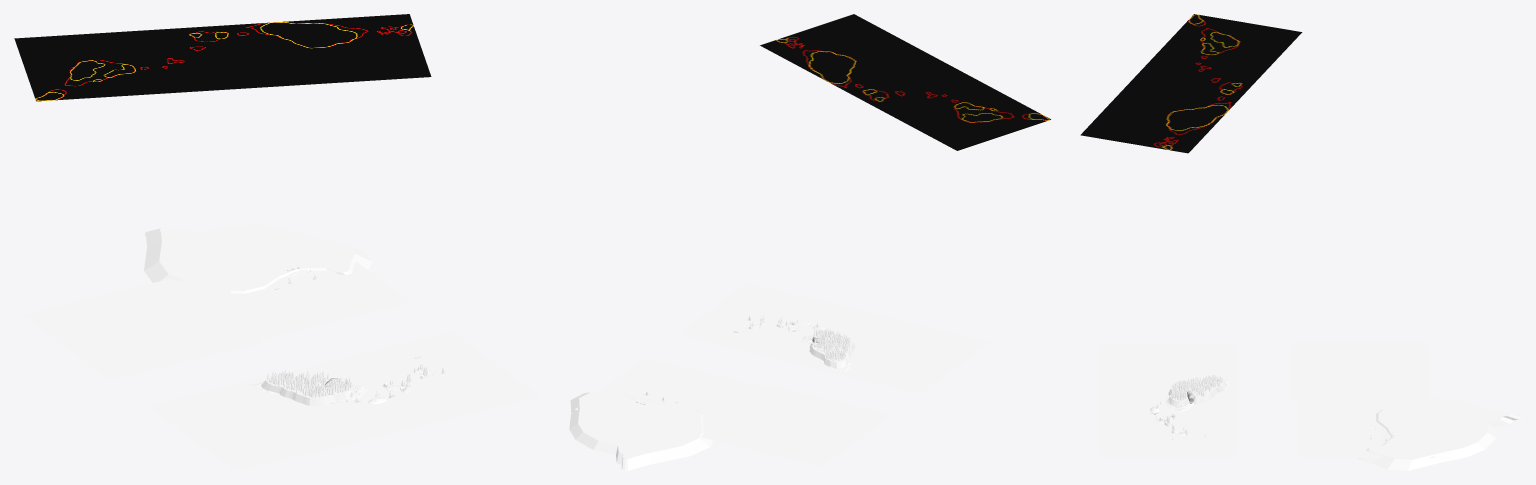
3 renders of one model, left to right at view 1: azimuth 30°, elevation 25°; view 2: azimuth 150°, elevation 25°; view 3: azimuth 270°, elevation 25°, orthographic. The views are drawn at different scales.
Parts seen in each view (by area): view 1: Map, Plane.026, Plane, Plane.024, Cylinder.013, Plane.010, Cylinder.082; view 2: Map, Plane.026, Cylinder.013, Plane, Plane.024, Plane.010, Cylinder.050; view 3: Map, Plane.026, Plane, Cylinder.013, Plane.024, Plane.010, Cylinder.050.
Boxes of the visible parts, x1,y1,x2,y2 form: Map: [14, 14, 431, 101]; Plane.026: [22, 278, 263, 379]; Plane: [300, 331, 540, 433]; Plane.024: [147, 368, 387, 470]; Cylinder.013: [144, 225, 372, 293]; Plane.010: [181, 237, 411, 339]; Cylinder.082: [261, 376, 352, 405]; Map: [760, 14, 1050, 150]; Plane.026: [702, 385, 891, 466]; Cylinder.013: [569, 387, 712, 470]; Plane: [677, 283, 869, 364]; Plane.024: [799, 312, 990, 393]; Plane.010: [575, 358, 766, 432]; Cylinder.050: [809, 335, 855, 368]; Map: [1080, 14, 1302, 153]; Plane.026: [1291, 342, 1428, 400]; Plane: [1099, 400, 1235, 457]; Cylinder.013: [1357, 398, 1521, 470]; Plane.024: [1099, 342, 1235, 399]; Plane.010: [1297, 400, 1434, 457]; Cylinder.050: [1168, 379, 1226, 406].
Bounding box in the file's own units: 99.84 × 75.7 × 106.
Materials: 43 (1 with a texture image).
